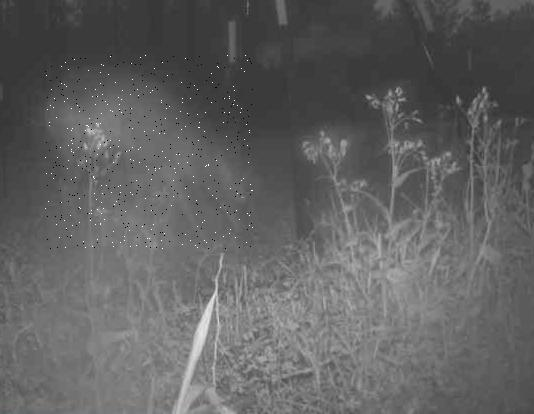Deer: (44, 55, 253, 250)
